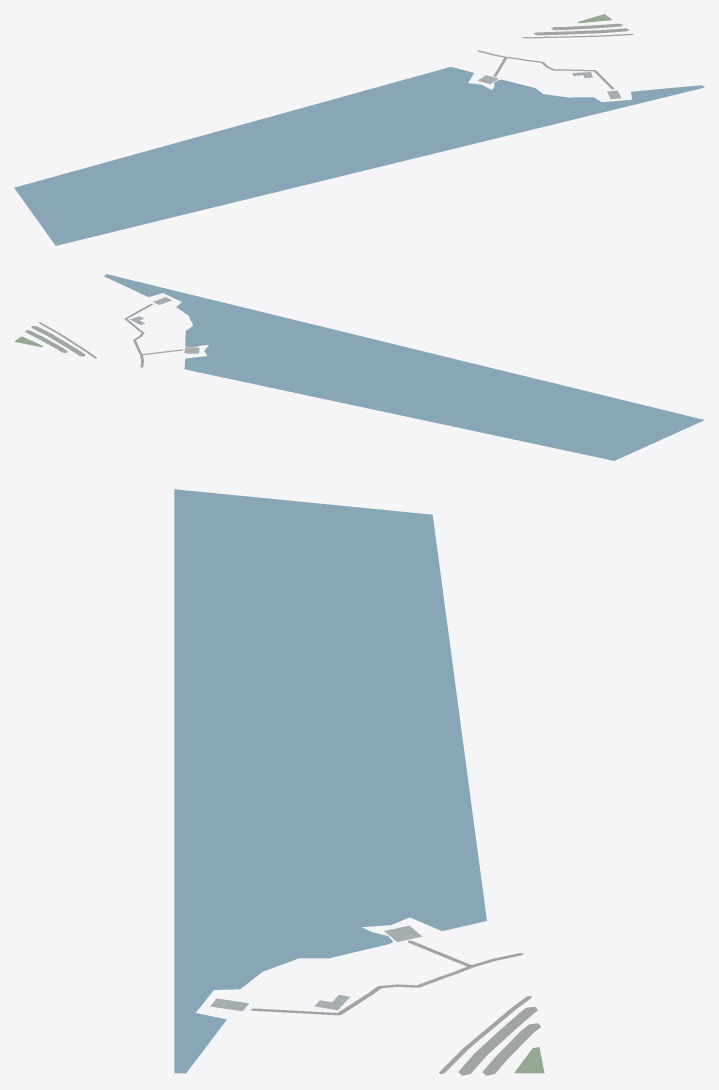
The model's file is -13_19-known-fine.glb.
3 views of the same model, one above another, from view 1: azimuth 30°, elevation 25°; view 2: azimuth 150°, elevation 25°; view 3: azimuth 270°, elevation 25° (orthographic). The views are drawn at different scales.
Size of the model in its own units: 726 by 0.15 by 194.
